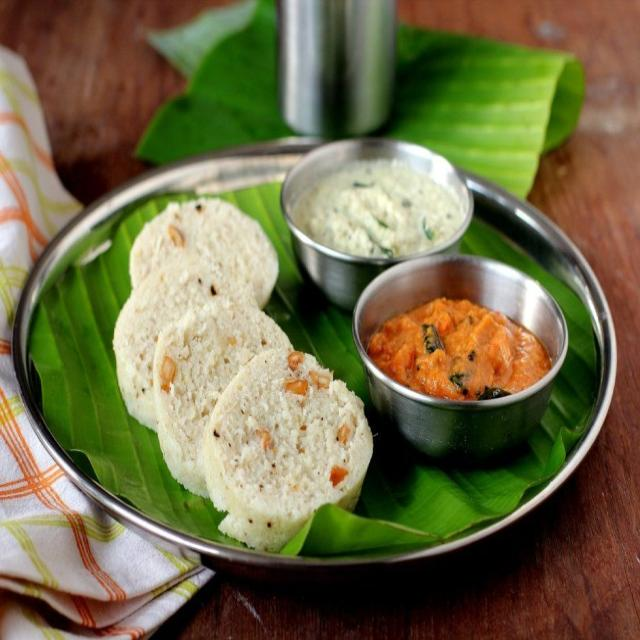kaara chutney: (375, 254, 554, 406)
